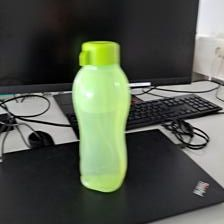bottle: (69, 39, 134, 191)
